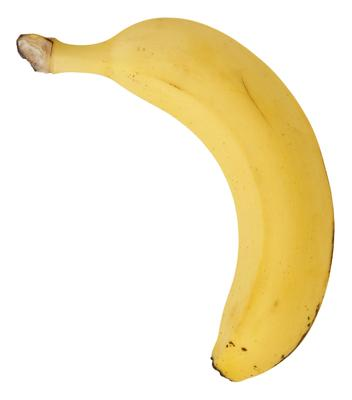banana: (0, 0, 352, 400)
